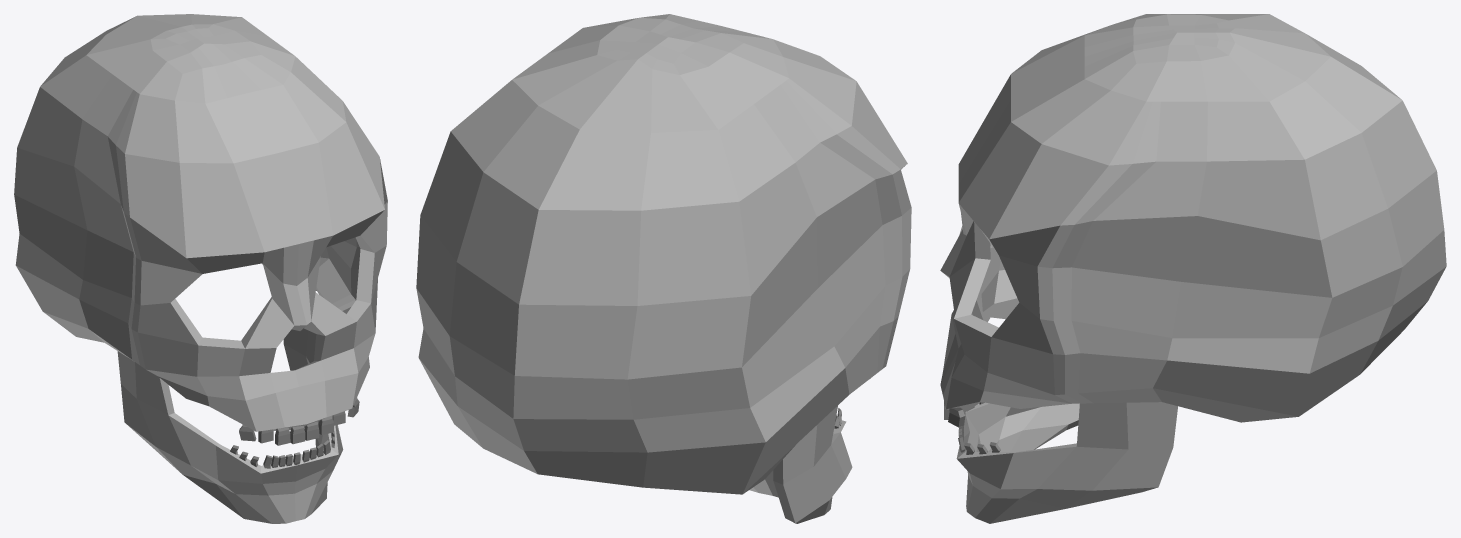
File: skull_type_01.fbx
3 views of the same model, side by side, from view 1: azimuth 30°, elevation 25°; view 2: azimuth 150°, elevation 25°; view 3: azimuth 270°, elevation 25° (orthographic). The views are drawn at different scales.
Visible parts, largest first — view 1: skull_type_01; view 2: skull_type_01; view 3: skull_type_01.
Part boxes in pixels (bbox=[...]): skull_type_01: bbox=[14, 14, 387, 523]; skull_type_01: bbox=[416, 14, 911, 523]; skull_type_01: bbox=[940, 14, 1446, 523].
Bounding box in the file's own units: 9.7 × 14.57 × 14.07.
